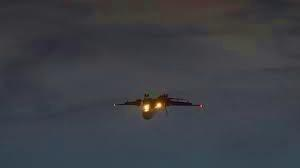Plane: (107, 80, 210, 138)
